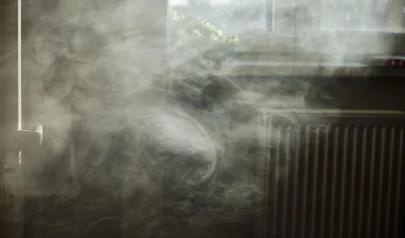smoke: (7, 3, 284, 169)
